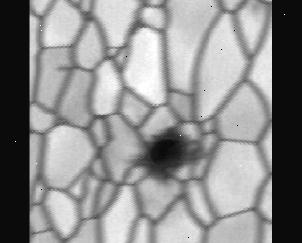good_void: (127, 120, 207, 186)
